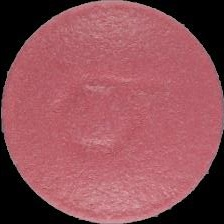0555-9123: (0, 0, 224, 224)
